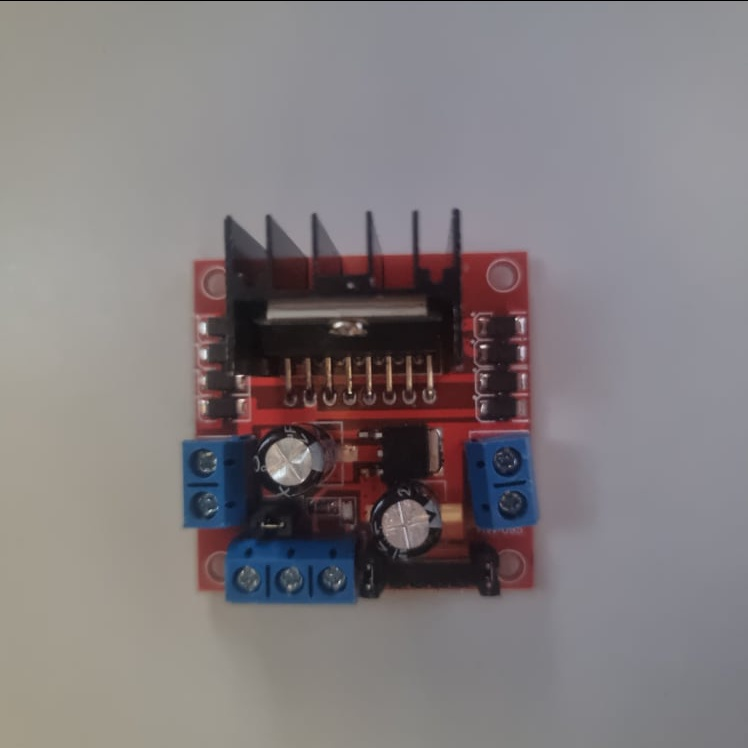MOTOR: (179, 203, 545, 606)
